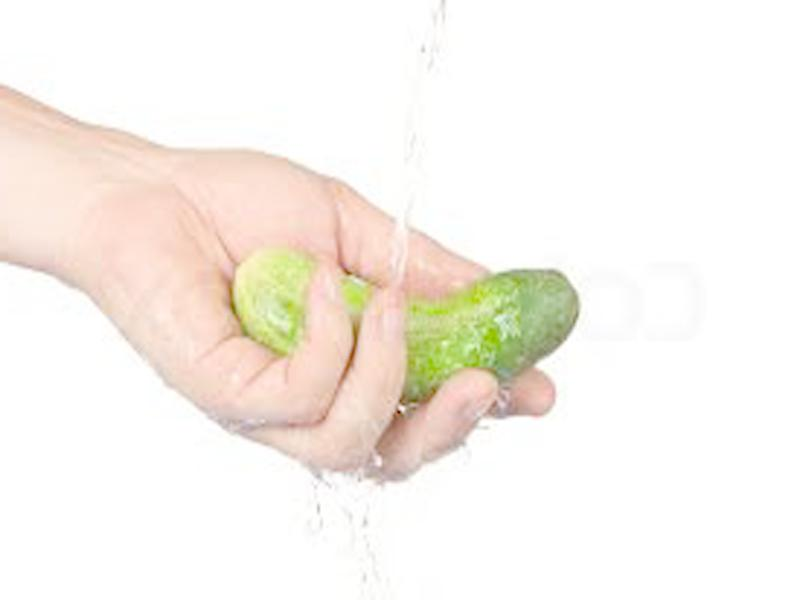Cucumber: (235, 252, 581, 393)
